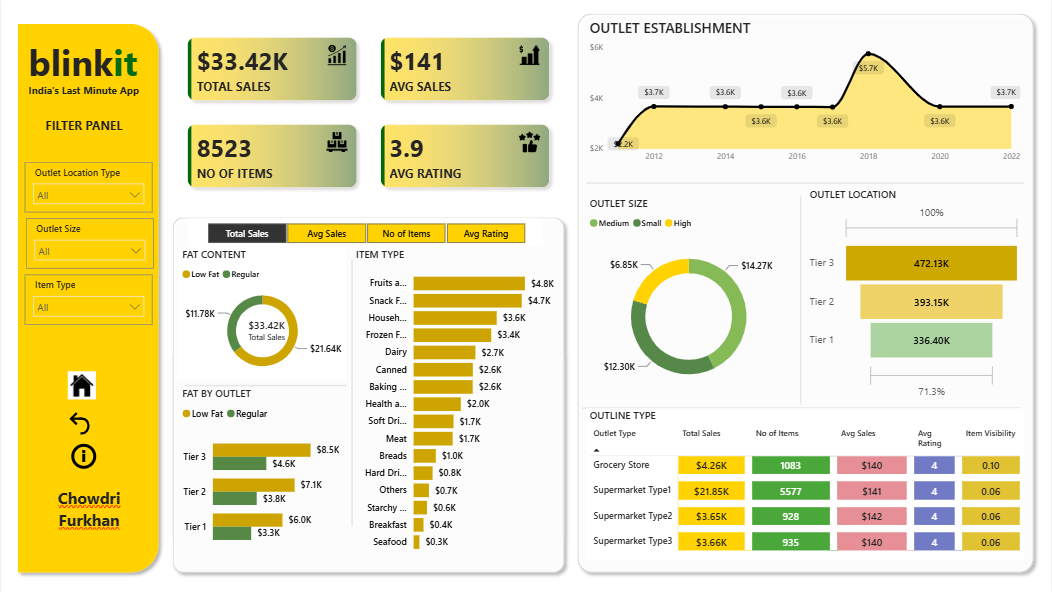

The dashboard page shown, as its layout file describes it:
{"tool":"powerbi","page":{"name":"Page 1","canvas":[1400,800],"ordinal":0},"visuals":[{"type":"shape","box":[14,26,206,750],"z":0},{"type":"textbox","box":[32,48,170,76],"z":1000},{"type":"textbox","box":[32,110,166,28],"z":2000},{"type":"cardVisual","fields":{"Data":["BlinkIT Grocery Data.Total Sales","BlinkIT Grocery Data.Avg Sales","BlinkIT Grocery Data.No of Items","BlinkIT Grocery Data.Avg Rating"]},"box":[220,25.7,540,258.6],"z":3000},{"type":"shape","box":[220,284.3,540,491.4],"z":4000},{"type":"donutChart","title":"FAT CONTENT","fields":{"Y":["BlinkIT Grocery Data.Total Sales"],"Category":["BlinkIT Grocery Data.Item Fat Content"]},"box":[237.1,332.9,224.3,178.6],"z":5000},{"type":"slicer","fields":{"Values":["Metrics.Metrics"]},"box":[250,295.7,472.9,37.1],"z":6000},{"type":"cardVisual","fields":{"Data":["BlinkIT Grocery Data.Total Sales"]},"box":[301.4,412.9,105.7,62.9],"z":7000},{"type":"clusteredBarChart","title":"FAT BY OUTLET","fields":{"Y":["BlinkIT Grocery Data.Total Sales"],"Series":["BlinkIT Grocery Data.Item Fat Content"],"Category":["BlinkIT Grocery Data.Outlet Location Type"]},"box":[237.1,518.6,220,231.4],"z":8000},{"type":"shape","box":[245.7,511.4,215.7,12.9],"z":9000},{"type":"shape","box":[461.4,350,12.9,355.7],"z":10000},{"type":"barChart","title":"ITEM TYPE","fields":{"Y":["BlinkIT Grocery Data.Total Sales"],"Category":["BlinkIT Grocery Data.Item Type"]},"box":[468.6,332.9,274.3,417.1],"z":11000},{"type":"shape","box":[760,12.9,625.7,762.9],"z":12000},{"type":"lineChart","title":"OUTLET ESTABLISHMENT","fields":{"Category":["BlinkIT Grocery Data.Outlet Establishment Year"],"Y":["BlinkIT Grocery Data.Total Sales"]},"box":[780,28.6,584.3,212.9],"z":13000},{"type":"shape","box":[780,241.4,584.3,12.9],"z":14000},{"type":"donutChart","title":"OUTLET SIZE","fields":{"Y":["BlinkIT Grocery Data.Total Sales"],"Category":["BlinkIT Grocery Data.Outlet Size"]},"box":[780,264.3,274.3,277.1],"z":15000},{"type":"shape","box":[1060,264.3,12.9,277.1],"z":16000},{"type":"funnel","title":"OUTLET LOCATION","fields":{"Y":["Sum(BlinkIT Grocery Data.Sales)"],"Category":["BlinkIT Grocery Data.Outlet Location Type"]},"box":[1072.9,252.9,291.4,288.6],"z":17000},{"type":"shape","box":[774.3,541.4,584.3,12.9],"z":18000},{"type":"pivotTable","title":"OUTLINE TYPE","fields":{"Rows":["BlinkIT Grocery Data.Outlet Type"],"Values":["BlinkIT Grocery Data.Total Sales","BlinkIT Grocery Data.No of Items","BlinkIT Grocery Data.Avg Sales","BlinkIT Grocery Data.Avg Rating","Avg(BlinkIT Grocery Data.Item Visibility)"]},"box":[780,548.6,584.3,201.4],"z":19000},{"type":"slicer","fields":{"Values":["BlinkIT Grocery Data.Outlet Location Type"]},"box":[31.4,220,170,67.1],"z":20000},{"type":"slicer","fields":{"Values":["BlinkIT Grocery Data.Outlet Size"]},"box":[32.9,295.7,170,67.1],"z":21000},{"type":"slicer","fields":{"Values":["BlinkIT Grocery Data.Item Type"]},"box":[31.4,370,170,67.1],"z":22000},{"type":"textbox","box":[40,155.7,141.4,32.9],"z":23000},{"type":"actionButton","box":[84.3,577.1,50,71.4],"z":24000},{"type":"actionButton","box":[84.3,495.7,50,45.7],"z":25000},{"type":"actionButton","box":[84.3,548.6,50,40],"z":26000},{"type":"textbox","box":[40,648.3,155,71.7],"z":27000}]}

Visuals, with their boxes in screenshot pixels (x1, y1, x2, y2), scaled from the page's 1400x800 canvas onto the 1052x592 screenshot:
shape: [11, 19, 165, 574]
textbox: [24, 36, 152, 92]
textbox: [24, 81, 149, 102]
cardVisual - BlinkIT Grocery Data.Total Sales x BlinkIT Grocery Data.Avg Sales: [165, 19, 571, 210]
shape: [165, 210, 571, 574]
"FAT CONTENT" donutChart: [178, 246, 347, 379]
slicer - Metrics.Metrics: [188, 219, 543, 246]
cardVisual - BlinkIT Grocery Data.Total Sales: [226, 306, 306, 352]
"FAT BY OUTLET" clusteredBarChart: [178, 384, 343, 555]
shape: [185, 378, 347, 388]
shape: [347, 259, 356, 522]
"ITEM TYPE" barChart: [352, 246, 558, 555]
shape: [571, 10, 1041, 574]
"OUTLET ESTABLISHMENT" lineChart: [586, 21, 1025, 179]
shape: [586, 179, 1025, 188]
"OUTLET SIZE" donutChart: [586, 196, 792, 401]
shape: [797, 196, 806, 401]
"OUTLET LOCATION" funnel: [806, 187, 1025, 401]
shape: [582, 401, 1021, 410]
"OUTLINE TYPE" pivotTable: [586, 406, 1025, 555]
slicer - BlinkIT Grocery Data.Outlet Location Type: [24, 163, 151, 212]
slicer - BlinkIT Grocery Data.Outlet Size: [25, 219, 152, 268]
slicer - BlinkIT Grocery Data.Item Type: [24, 274, 151, 323]
textbox: [30, 115, 136, 140]
actionButton: [63, 427, 101, 480]
actionButton: [63, 367, 101, 401]
actionButton: [63, 406, 101, 436]
textbox: [30, 480, 147, 533]
